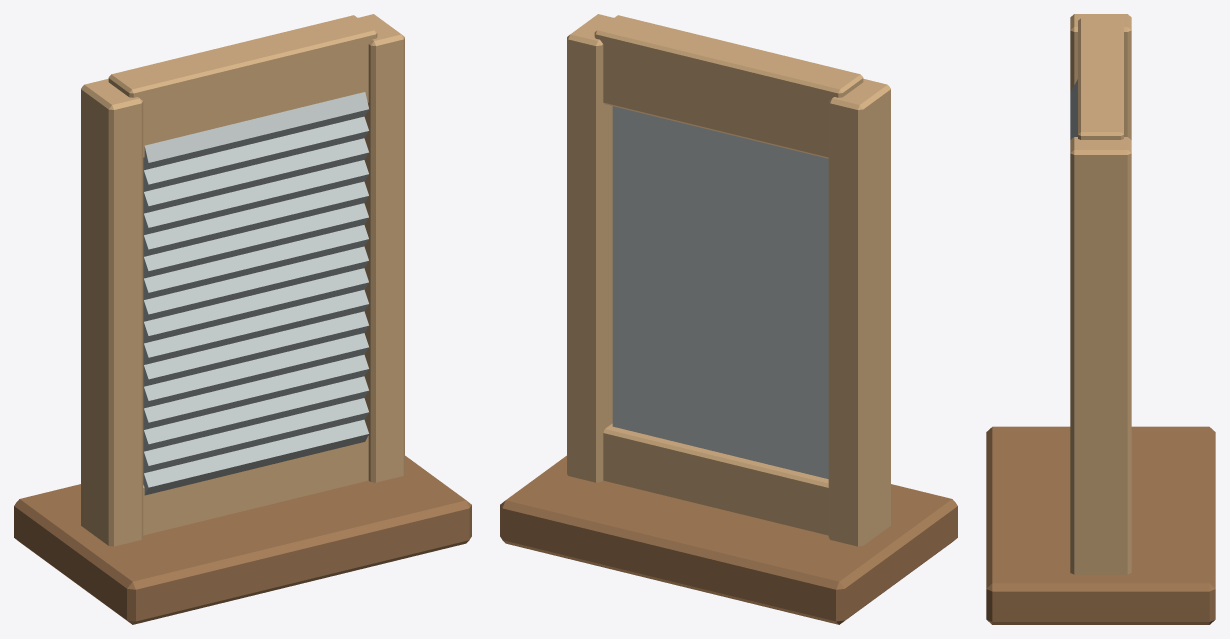
3 views of the same model, side by side, from view 1: azimuth 30°, elevation 25°; view 2: azimuth 150°, elevation 25°; view 3: azimuth 270°, elevation 25° (orthographic). The views are drawn at different scales.
Visible parts, largest first — view 1: laundry-washboard-01; view 2: laundry-washboard-01; view 3: laundry-washboard-01.
Part boxes in pixels (<box>): laundry-washboard-01: <box>14,14,471,624</box>; laundry-washboard-01: <box>500,14,957,624</box>; laundry-washboard-01: <box>986,14,1215,624</box>.
Bounding box in the file's own units: 0.5 × 0.68 × 0.3.
